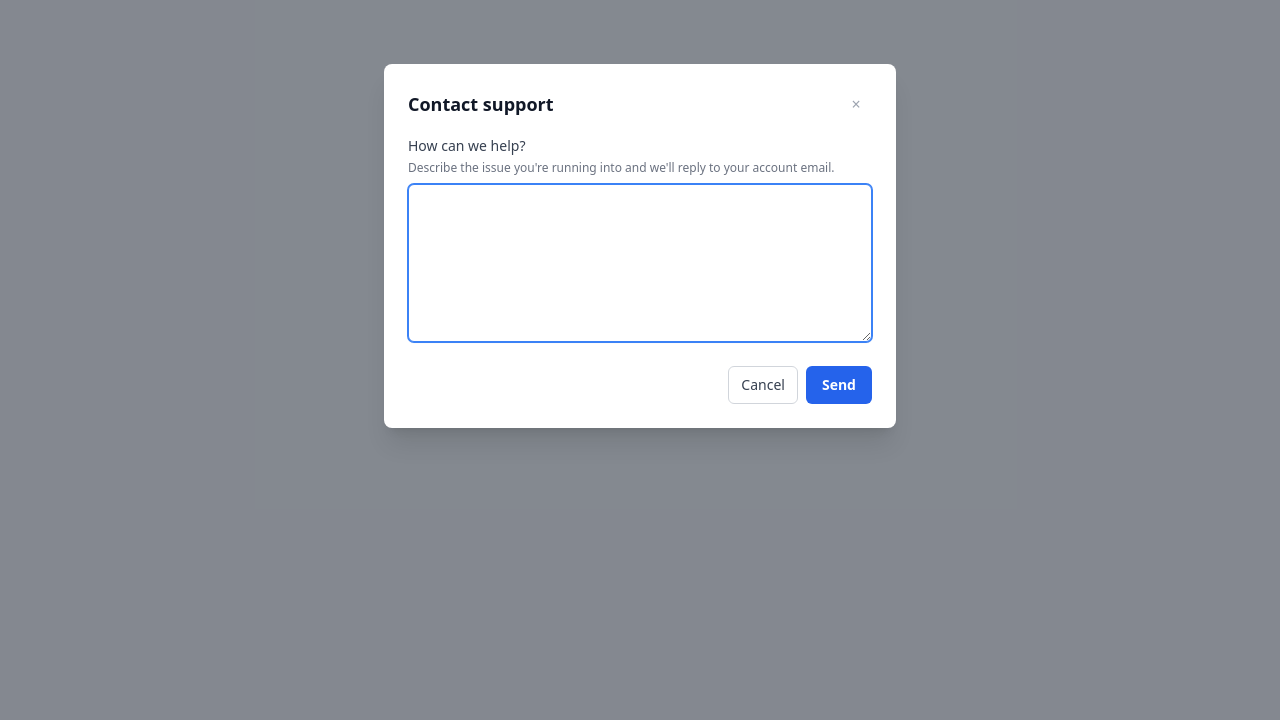
Test: ContactSupportModal › renders an error banner when the request fails
Type "I need help." into the text box labelled "How can we help?" at (640, 263), box x1=408 y1=184 x2=872 y2=342
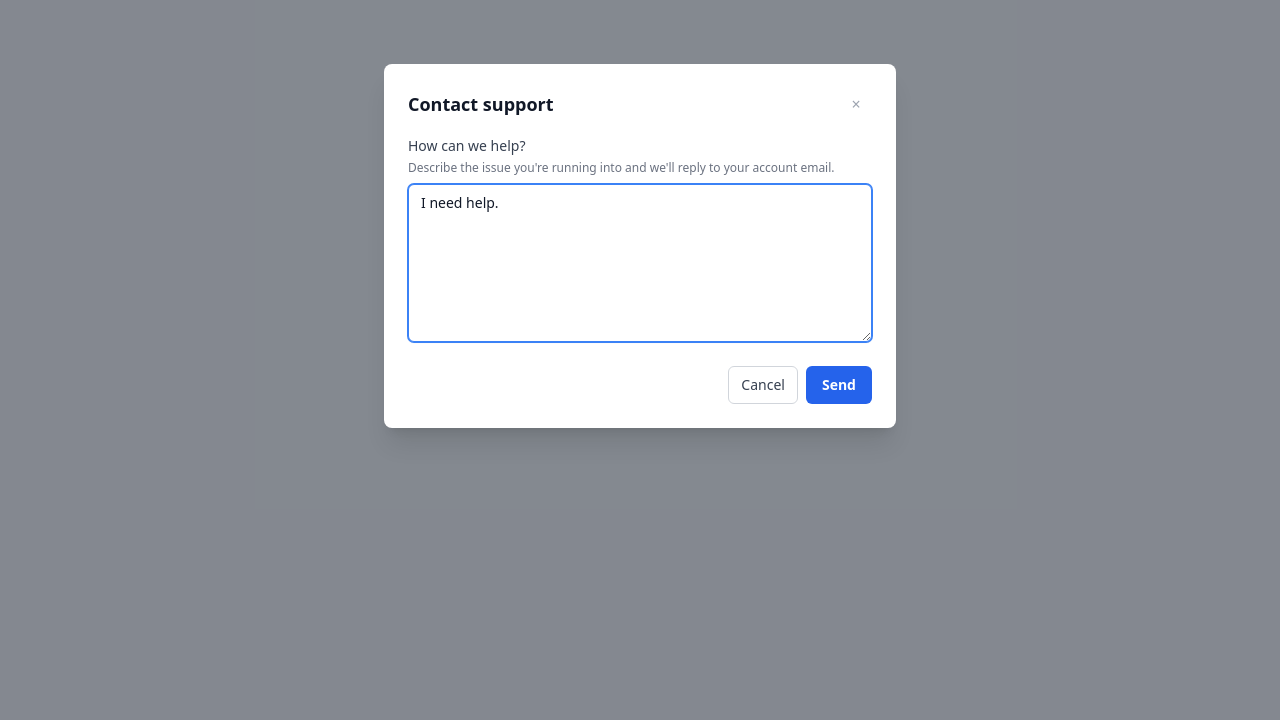
Click the button "Send" at (839, 385), box x1=806 y1=366 x2=872 y2=404
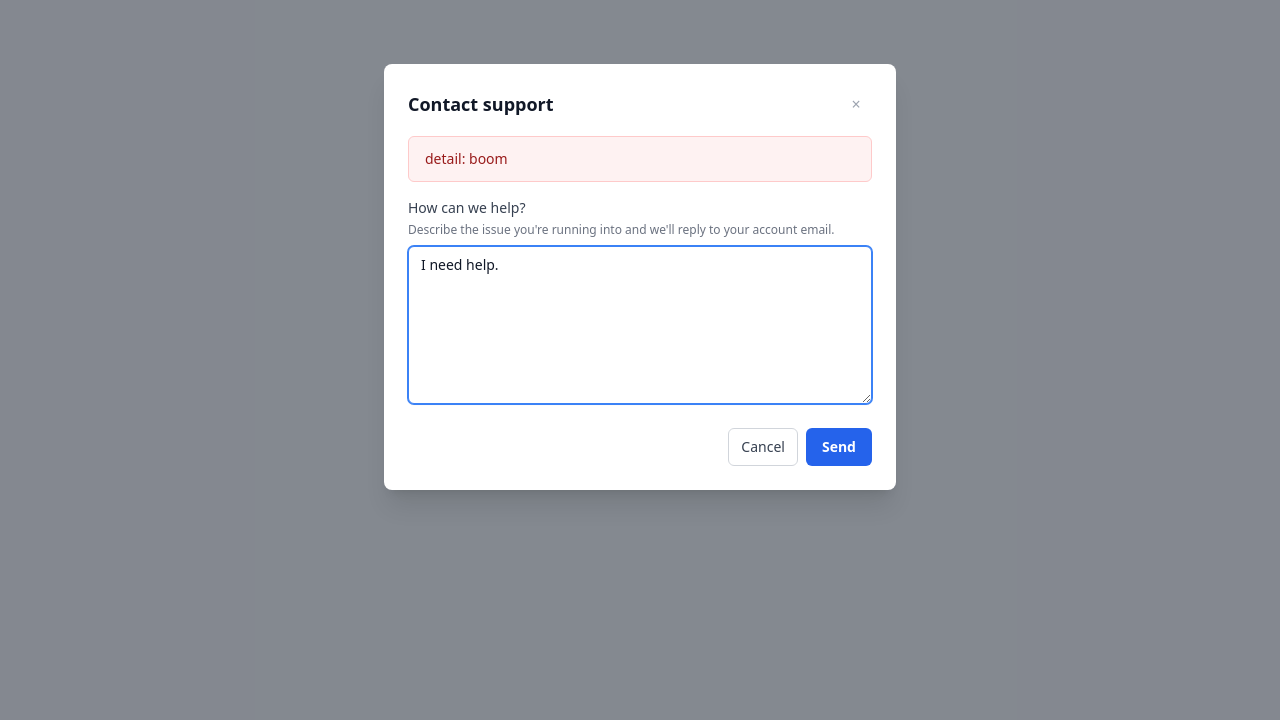
Result: the message "detail: boom" is shown at x1=408 y1=136 x2=872 y2=182
Result: the text "detail: boom" is shown at x1=425 y1=149 x2=508 y2=169
